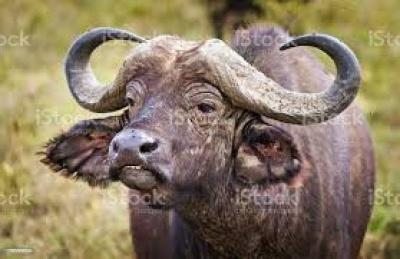buffalo: (35, 22, 377, 259)
